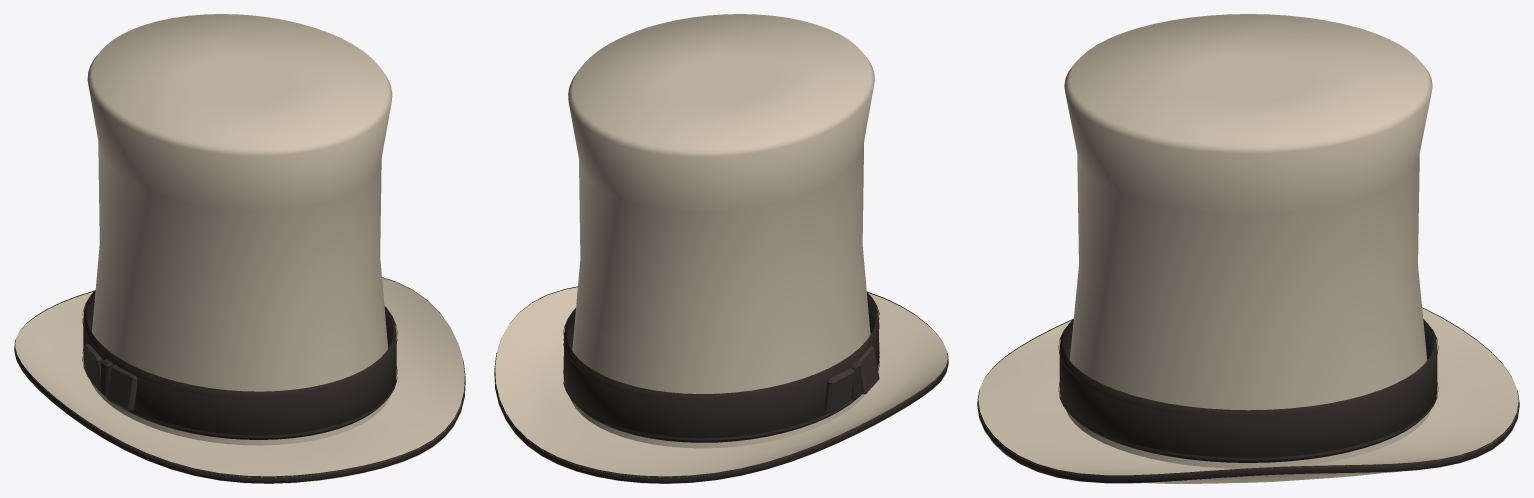
File: stovepipe.glb
The picture shows the model from 3 angles, left to right: view 1: azimuth 30°, elevation 25°; view 2: azimuth 150°, elevation 25°; view 3: azimuth 270°, elevation 25°; orthographic projection. The views are drawn at different scales.
Parts seen in each view (by area): view 1: Felt crown, Felt upper brim, Fitted hatband, Bound brim edge, Sewn band border.001, Folded ribbon bow.001, Sewn band border, Folded ribbon bow; view 2: Felt crown, Felt upper brim, Fitted hatband, Bound brim edge, Sewn band border.001, Folded ribbon bow, Sewn band border, Folded ribbon bow.001; view 3: Felt crown, Felt upper brim, Fitted hatband, Bound brim edge, Felt under brim, Sewn band border.001, Sewn band border.
Boxes of the visible parts, box(x1,y1,x2,y2) form: Felt crown: box(87, 14, 392, 445); Felt upper brim: box(14, 278, 465, 477); Fitted hatband: box(83, 290, 396, 439); Bound brim edge: box(14, 277, 465, 483); Sewn band border.001: box(82, 293, 397, 399); Folded ribbon bow.001: box(107, 364, 137, 411); Sewn band border: box(82, 349, 397, 437); Folded ribbon bow: box(83, 344, 102, 390); Felt crown: box(568, 14, 874, 448); Felt upper brim: box(494, 287, 948, 477); Fitted hatband: box(563, 292, 879, 442); Bound brim edge: box(494, 286, 948, 483); Sewn band border.001: box(563, 295, 879, 401); Folded ribbon bow: box(824, 368, 854, 412); Sewn band border: box(563, 352, 879, 440); Folded ribbon bow.001: box(857, 346, 879, 394); Felt crown: box(1064, 14, 1432, 468); Felt upper brim: box(978, 308, 1518, 475); Fitted hatband: box(1059, 319, 1437, 462); Bound brim edge: box(977, 307, 1519, 483); Felt under brim: box(979, 419, 1517, 483); Sewn band border.001: box(1058, 323, 1438, 418); Sewn band border: box(1058, 382, 1438, 460).
Size of the model in its own units: 0.2525 by 0.1946 by 0.2886.
